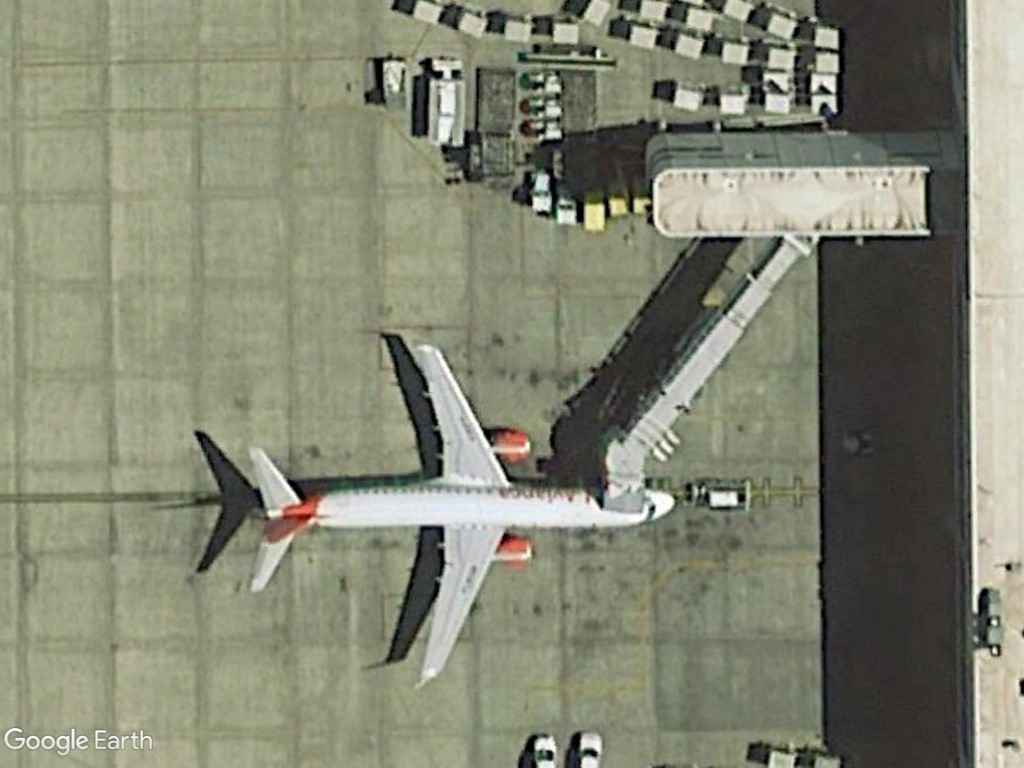airliner: (239, 335, 683, 698)
